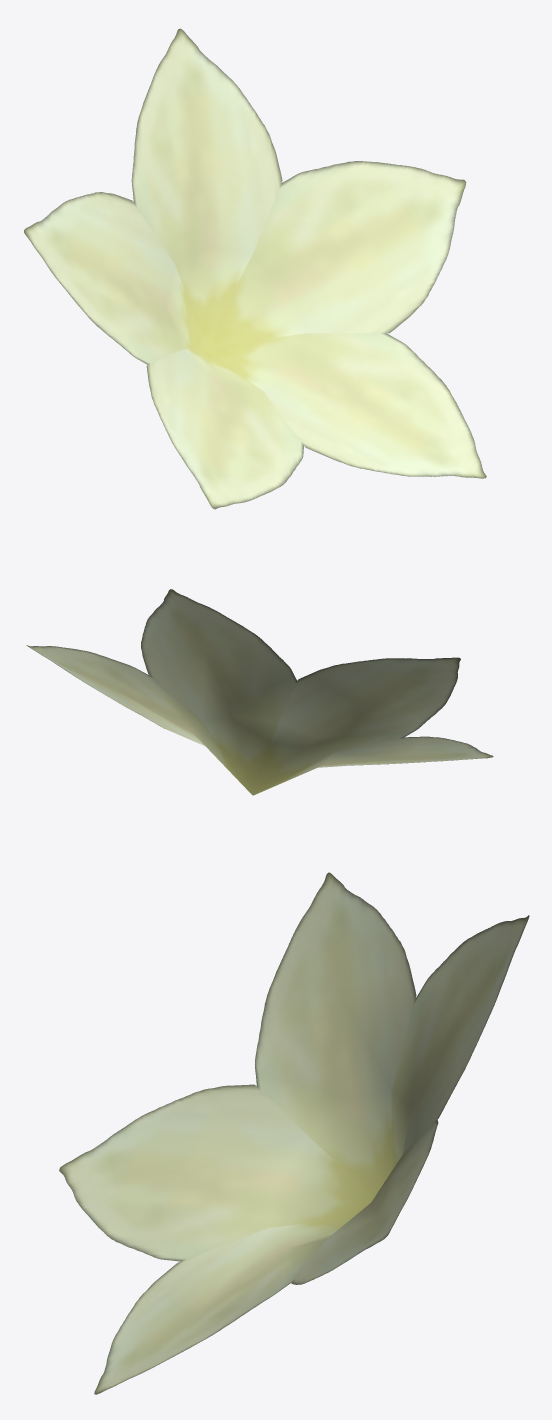
The model's file is sucai_04_04.FBX.
The picture shows the model from 3 angles, top to bottom: view 1: azimuth 30°, elevation 25°; view 2: azimuth 150°, elevation 25°; view 3: azimuth 270°, elevation 25°; orthographic projection. The views are drawn at different scales.
Visible parts, largest first — view 1: sucai_04; view 2: sucai_04; view 3: sucai_04.
Boxes of the visible parts, x1,y1,x2,y2 form: sucai_04: [24, 28, 486, 509]; sucai_04: [26, 589, 493, 795]; sucai_04: [59, 872, 529, 1394].
Size of the model in its own units: 29.64 by 21.34 by 22.99.
